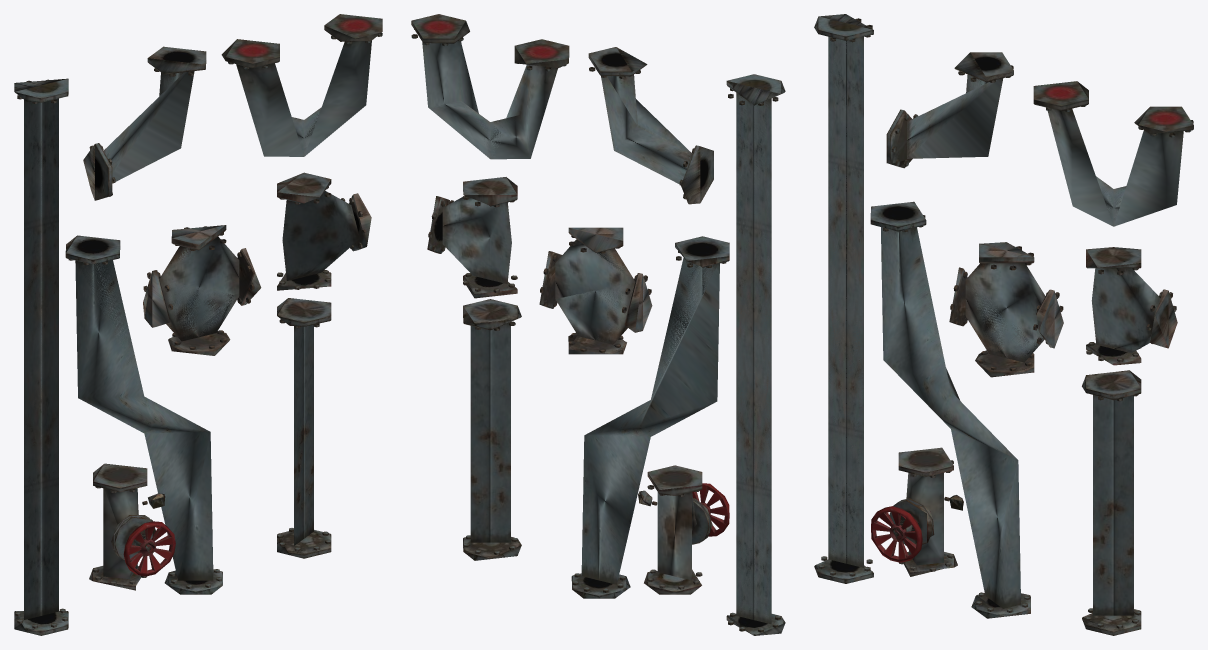
File: pipes.glb
3 renders of one model, left to right at view 1: azimuth 30°, elevation 25°; view 2: azimuth 150°, elevation 25°; view 3: azimuth 330°, elevation 25°, orthographic.
Parts seen in each view (by area): view 1: m; view 2: m; view 3: m.
Boxes of the visible parts, x1,y1,x2,y2 form: m: (14,14,382,635); m: (411,14,785,635); m: (814,14,1193,635).
Size of the model in its own units: 1.4 by 1.95 by 0.3073.
2 materials, 2 textured.
